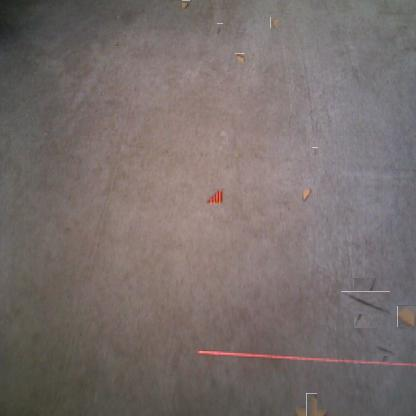dirty: (397, 305, 416, 327), (300, 399, 323, 416), (204, 188, 224, 206), (301, 186, 313, 202), (270, 17, 282, 28), (235, 53, 245, 64), (182, 1, 191, 9)
mark: (347, 285, 384, 321), (379, 343, 395, 359), (288, 114, 292, 128), (312, 148, 319, 156), (218, 23, 223, 34), (116, 41, 121, 47)
